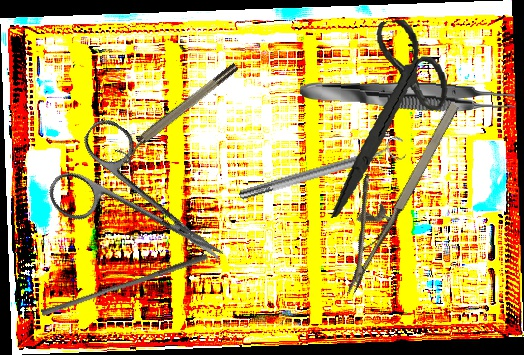Fixation Ring: (113, 60, 245, 166), (235, 133, 409, 208)
Iris Scissors: (41, 112, 249, 303), (305, 14, 463, 219)
Needle Holder: (308, 84, 465, 297)
Pusher: (40, 247, 209, 322)
Tissue Forceps: (299, 74, 516, 117)
